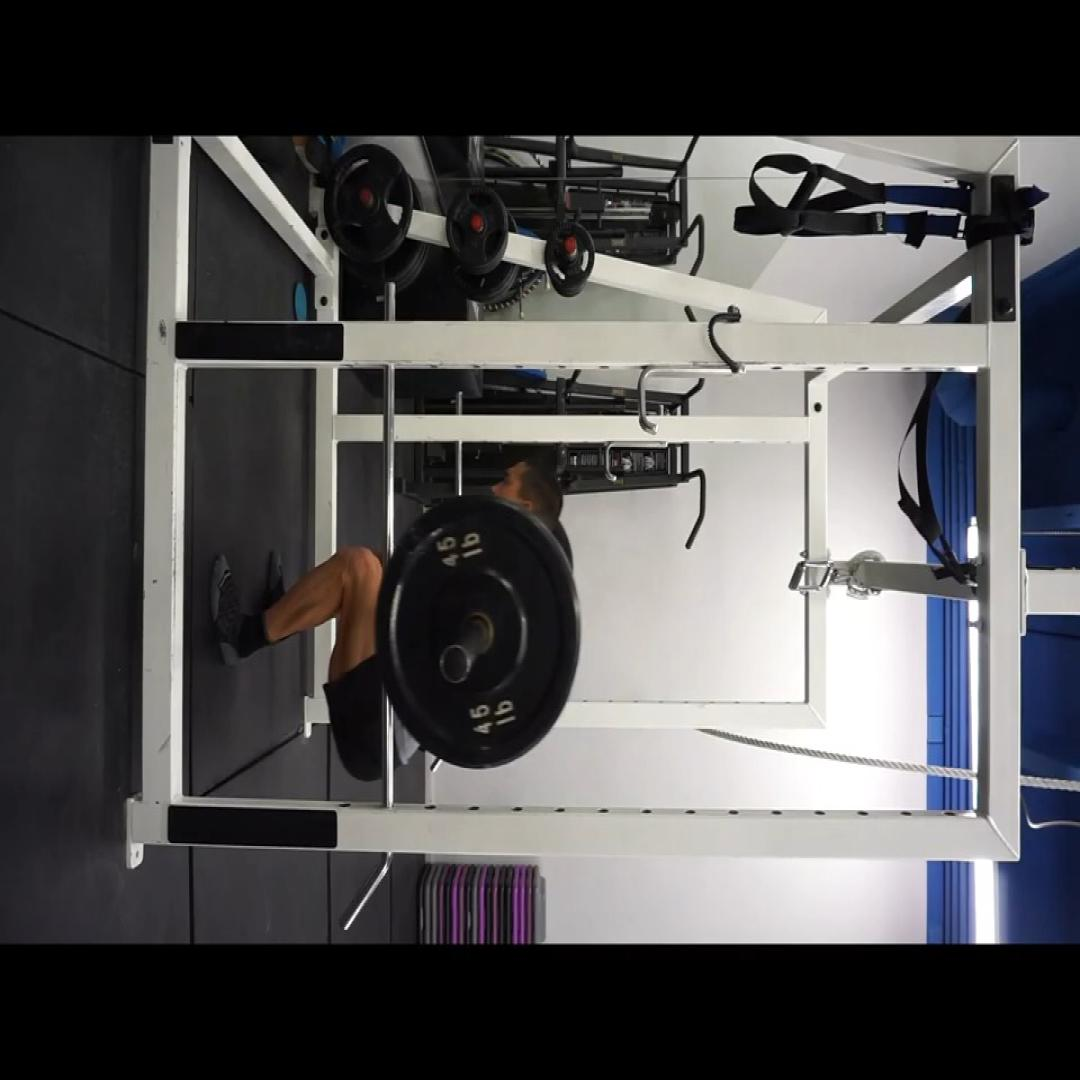Bar: (440, 645, 468, 683)
Barbell: (374, 495, 579, 763)
